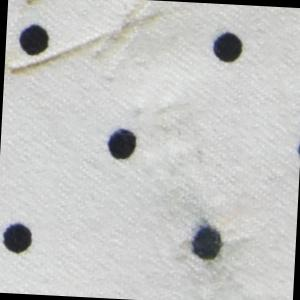Oil Stain: (6, 1, 164, 86)
